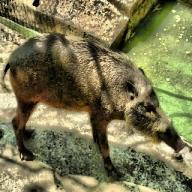boar: (0, 32, 186, 181)
